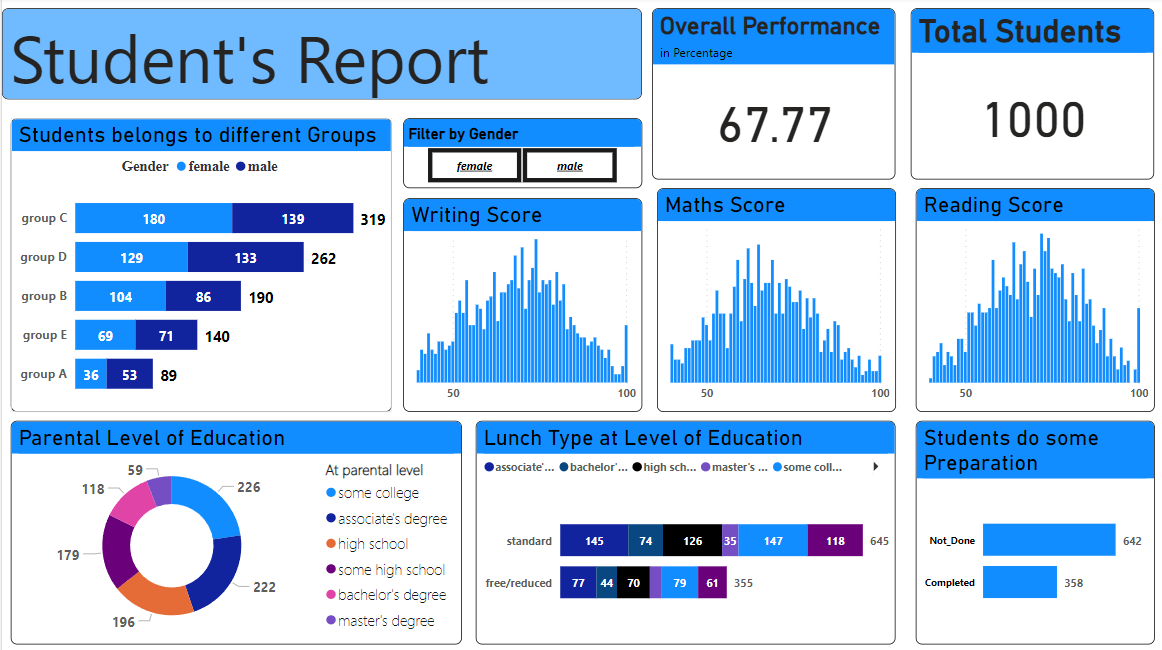

The dashboard page shown, as its layout file describes it:
{"tool":"powerbi","page":{"name":"Student_Performance","canvas":[1280,720],"ordinal":0},"visuals":[{"type":"barChart","title":"Students belongs to different Groups","fields":{"Category":["StudentsPerformance.race/ethnicity"],"Y":["StudentsPerformance.total_Sutdents"],"Series":["StudentsPerformance.gender"]},"box":[9.6,133.1,418.5,322.5],"z":0},{"type":"card","title":"Overall Performance","fields":{"Values":["Avg(StudentsPerformance.overall_performance)"]},"box":[713.6,12.3,267.6,188],"z":1000},{"type":"card","title":"Total Students","fields":{"Values":["StudentsPerformance.total_Sutdents"]},"box":[997.6,12.3,267.6,188],"z":2000},{"type":"donutChart","title":"Parental Level of Education","fields":{"Category":["StudentsPerformance.parental level of education"],"Y":["CountNonNull(StudentsPerformance.overall_performance)"]},"box":[9.6,465.2,495.4,245.6],"z":3000},{"type":"barChart","title":"Lunch Type at Level of Education","fields":{"Category":["StudentsPerformance.lunch"],"Series":["StudentsPerformance.parental level of education"],"Y":["CountNonNull(StudentsPerformance.lunch)"]},"box":[520.1,465.2,461.1,245.6],"z":4000},{"type":"clusteredColumnChart","title":"Maths Score","fields":{"Category":["StudentsPerformance.math score"],"Y":["CountNonNull(StudentsPerformance.writing score)"]},"box":[719,209.9,262.1,245.6],"z":5000},{"type":"clusteredColumnChart","title":"Reading Score","fields":{"Category":["StudentsPerformance.reading score"],"Y":["StudentsPerformance.total_Sutdents"]},"box":[1003.1,209.9,262.1,245.6],"z":6000},{"type":"textbox","title":"Student''s Report","box":[0,12.3,702.6,100.2],"z":7000},{"type":"barChart","title":"Students do some Preparation","fields":{"Category":["StudentsPerformance.test preparation course"],"Y":["StudentsPerformance.total_Sutdents"]},"box":[1003.1,465.2,262.1,245.6],"z":8000},{"type":"clusteredColumnChart","title":"Writing Score","fields":{"Category":["StudentsPerformance.writing score"],"Y":["CountNonNull(StudentsPerformance.writing score)"]},"box":[440.5,220.9,262.1,234.6],"z":9000},{"type":"slicer","title":"Filter by Gender","fields":{"Values":["StudentsPerformance.gender"]},"box":[440.5,133.1,262.1,76.8],"z":10000}]}

Visuals, with their boxes in screenshot pixels (x1, y1, x2, y2), scaled from the page's 1280x720 canvas onto the 1162x650 screenshot:
"Students belongs to different Groups" barChart: BBox(9, 120, 389, 411)
"Overall Performance" card: BBox(648, 11, 891, 181)
"Total Students" card: BBox(906, 11, 1149, 181)
"Parental Level of Education" donutChart: BBox(9, 420, 458, 642)
"Lunch Type at Level of Education" barChart: BBox(472, 420, 891, 642)
"Maths Score" clusteredColumnChart: BBox(653, 189, 891, 411)
"Reading Score" clusteredColumnChart: BBox(911, 189, 1149, 411)
"Student''s Report" textbox: BBox(0, 11, 638, 102)
"Students do some Preparation" barChart: BBox(911, 420, 1149, 642)
"Writing Score" clusteredColumnChart: BBox(400, 199, 638, 411)
"Filter by Gender" slicer: BBox(400, 120, 638, 189)
